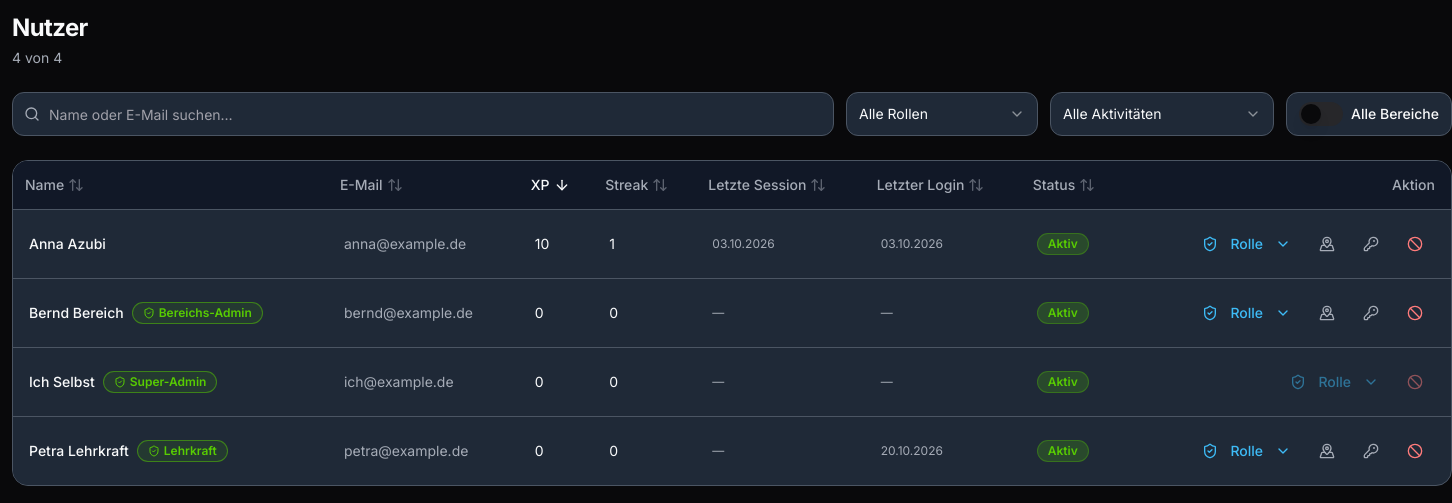
Test: Nutzerliste – Sortieren & Inaktiv-Filter (PROJ-57) › zeigt bei leerem Filter-Ergebnis „Filter zurücksetzen“
This screenshot has width=1452, height=503.
Type "gibtsnicht" into the field labelled "Name oder E-Mail suchen". click: [423, 114]
box: [12,92,834,136]
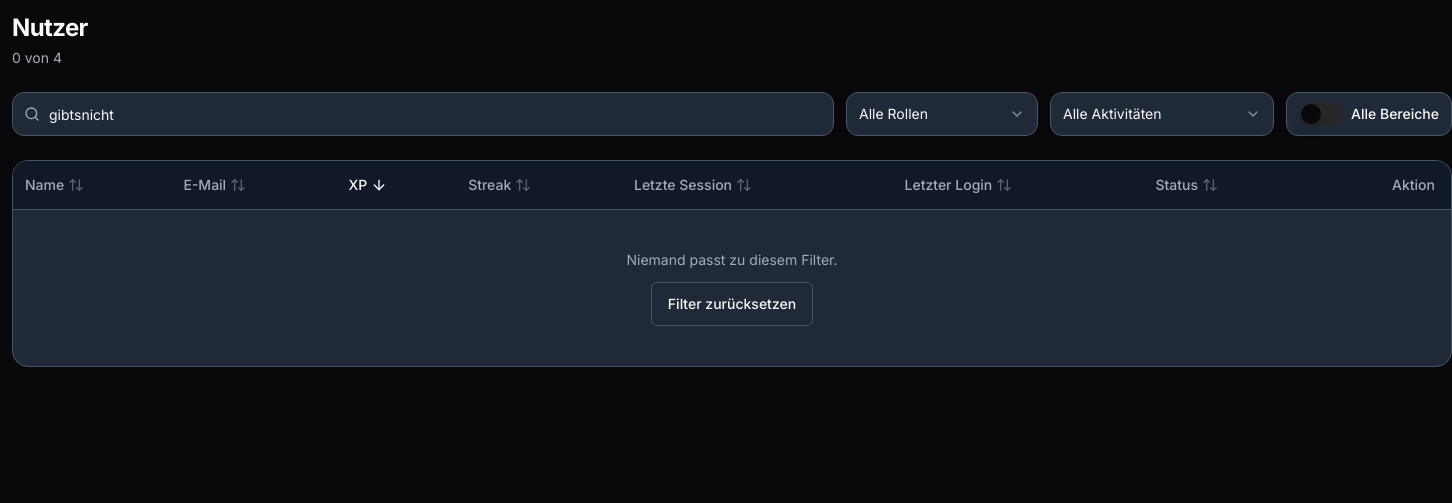
expect the text "Niemand passt zu diesem Filter." is shown: met, box [626,250,838,270]
Click the button "Filter zurücksetzen". click: [732, 304]
box: [651,282,813,326]
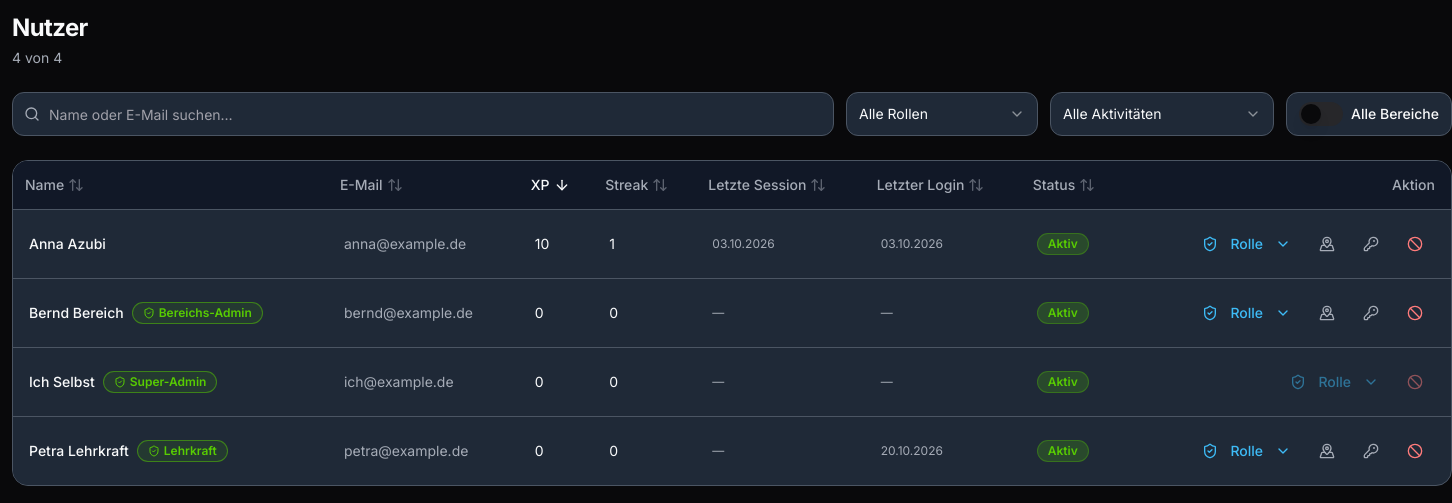
expect the text "Anna Azubi" is shown: met, box [29,234,106,252]
